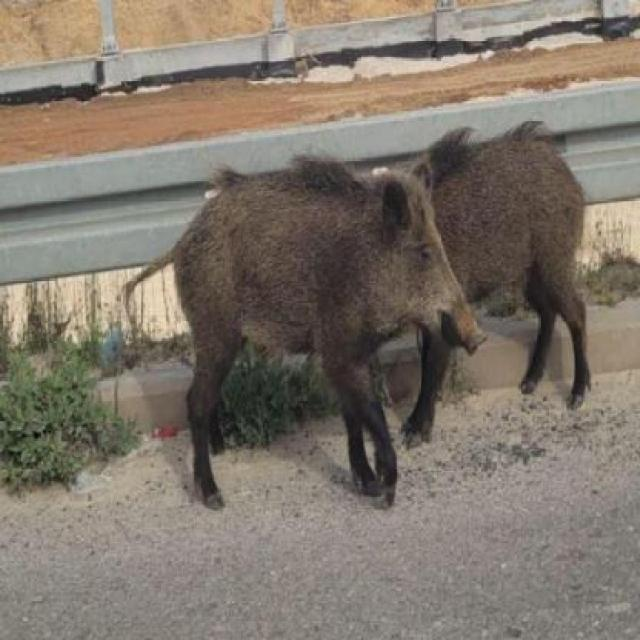Wild Boar: (117, 145, 490, 513), (316, 111, 596, 457)
